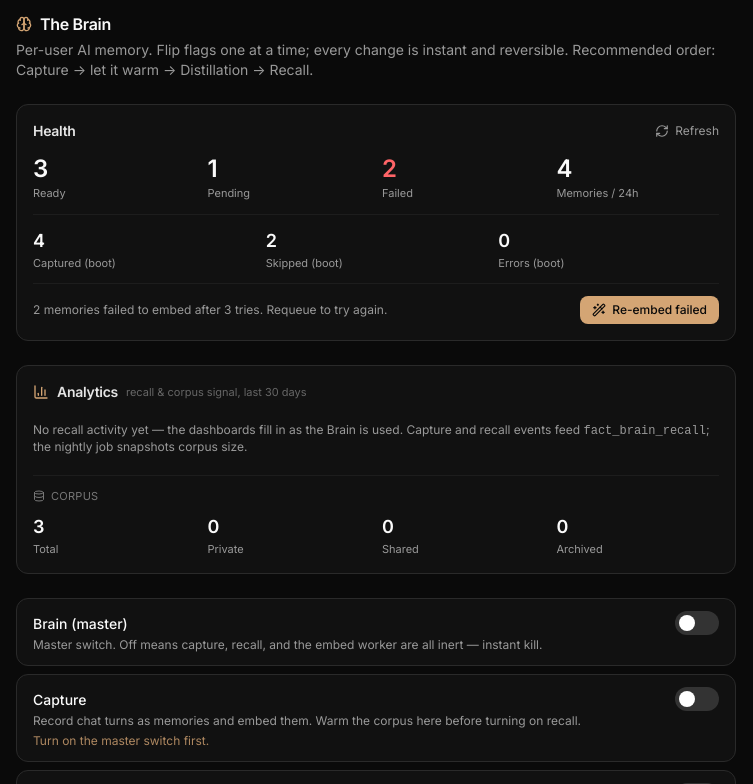
it: BrainTab › shows the re-embed button when memories failed and requeues them (T18)
Click the button "Re-embed failed" at coordinates (650, 310), box [580,296,719,324]
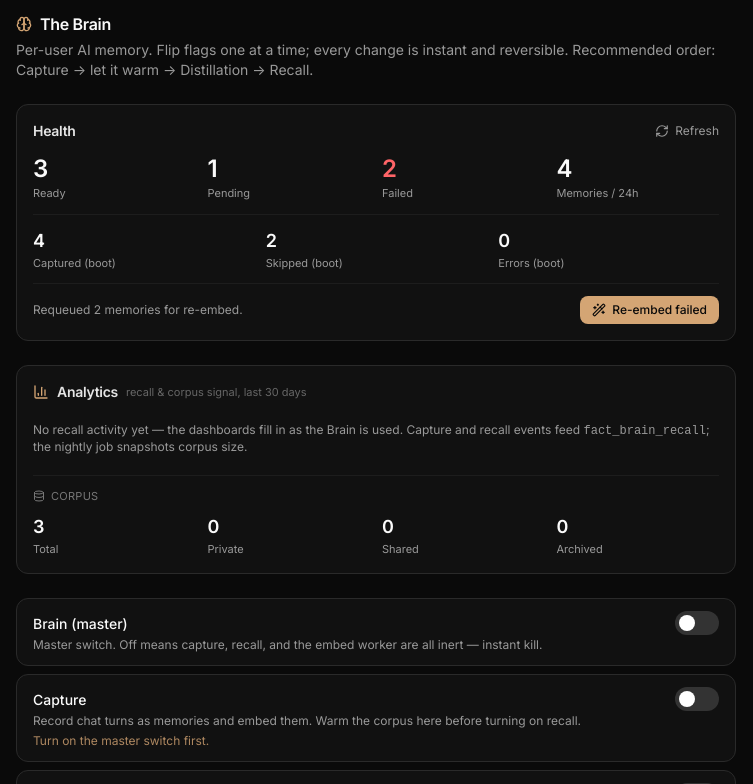
Expected: the text "Requeued 2 memories for re-embed." is shown, [33,302,243,318]
